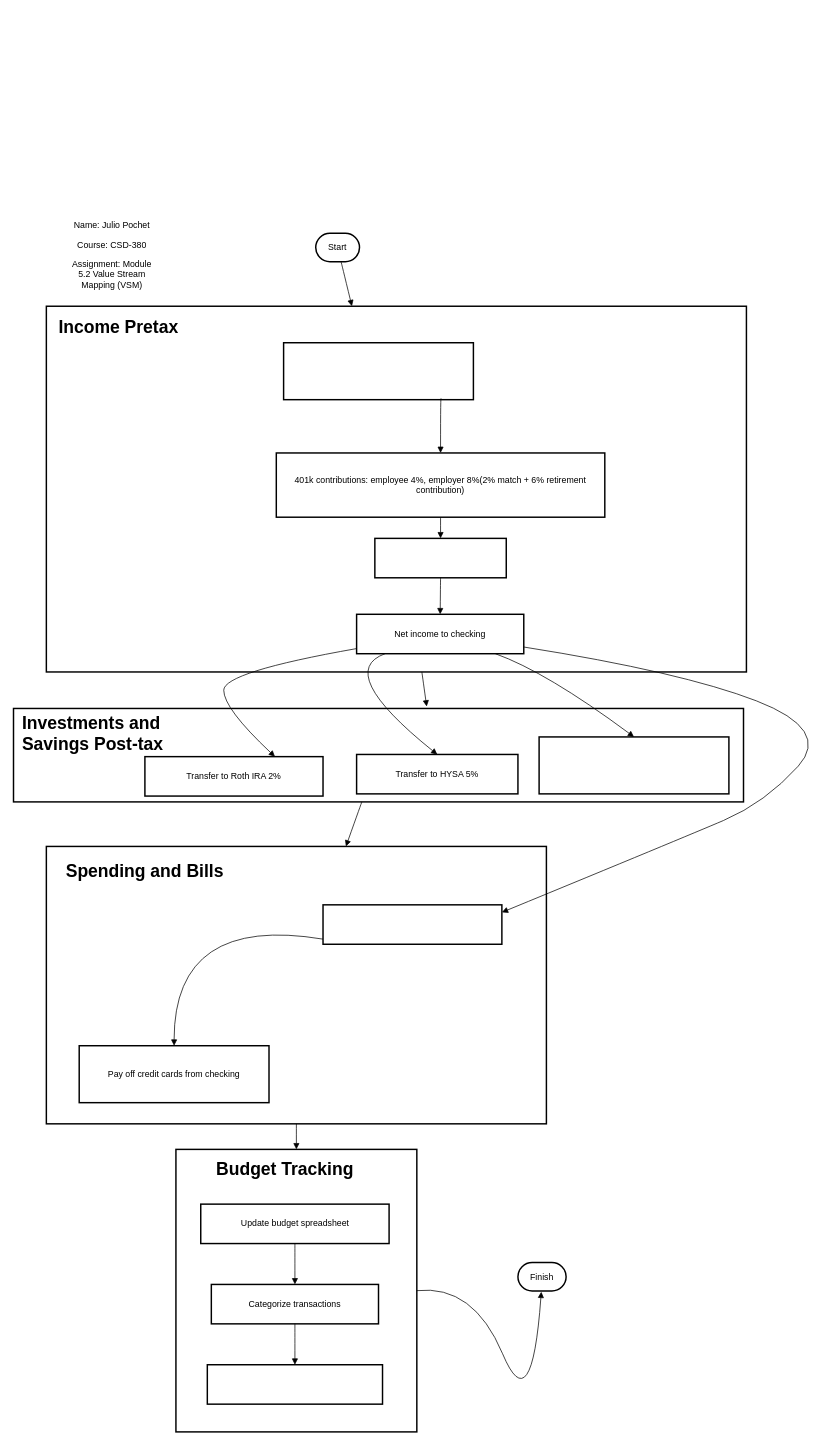
Some shapes in this 821 by 1445 pixel diagram are drawn without their labels. Each missing label, with the centre of its shape:
"Compare actuals vs goals" goes at (x=294, y=1384).
"HSA 1% pretax" goes at (x=440, y=557).
"Pay bills with credit cards" goes at (x=412, y=924).
"Paycheck received (direct deposit)" goes at (x=378, y=371).
"Transfer to Emergency Fund 5%" goes at (x=633, y=765).
